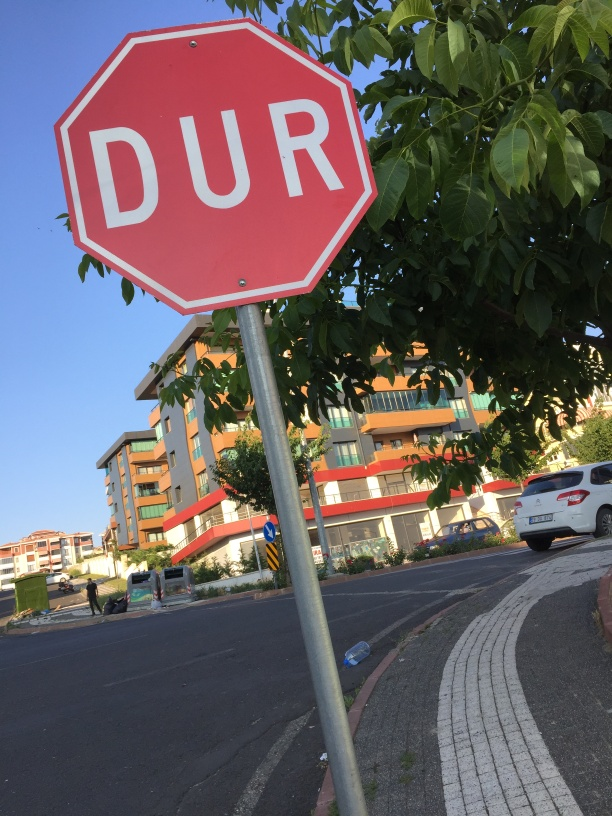arac_dur_isareti: (50, 37, 396, 674), (49, 31, 393, 663)
